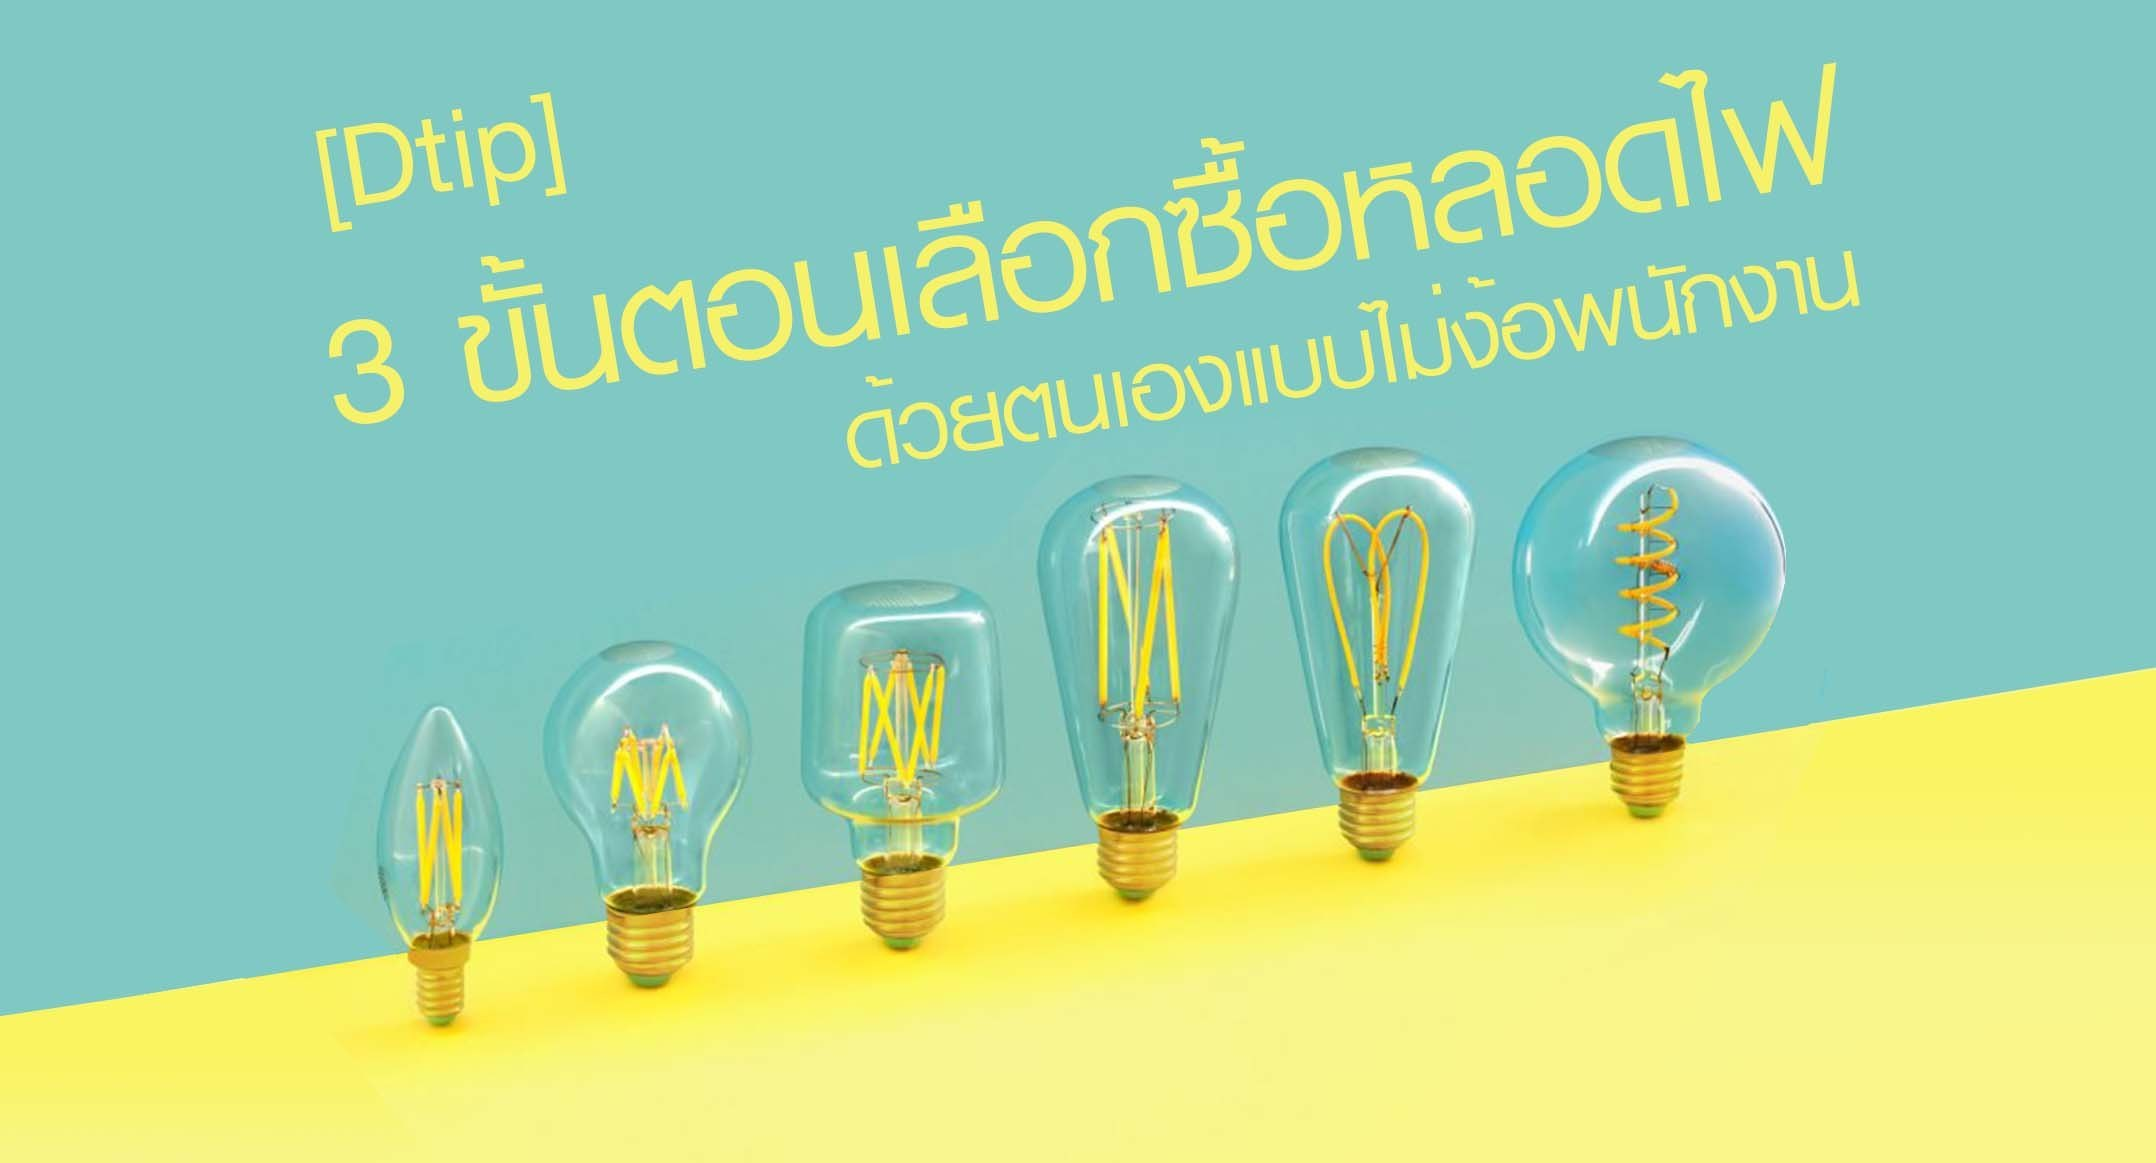Light_bulb: (1500, 423, 1794, 849), (1026, 455, 1243, 922), (1268, 443, 1500, 862), (527, 626, 770, 1010), (787, 564, 1014, 971), (356, 695, 530, 1038)
